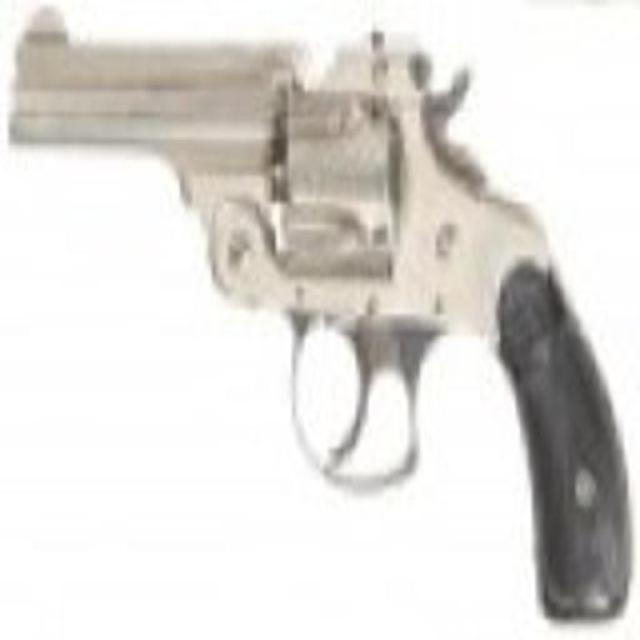pistol: (15, 5, 631, 634)
